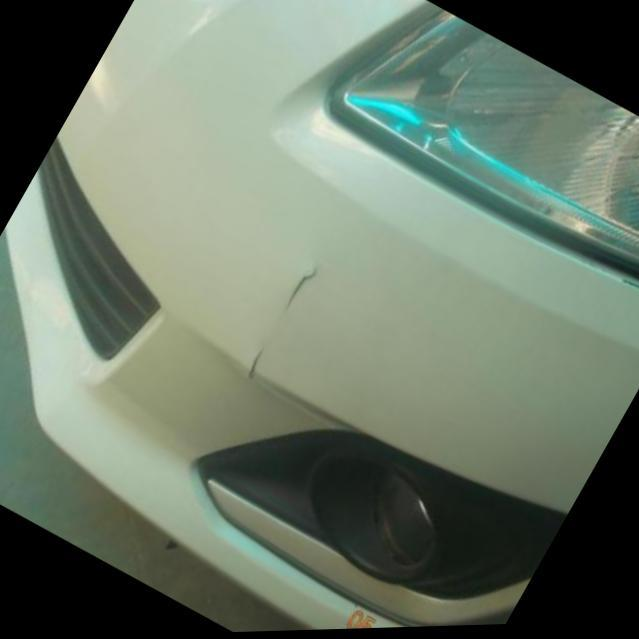crack: (240, 337, 280, 394), (282, 262, 322, 315)
